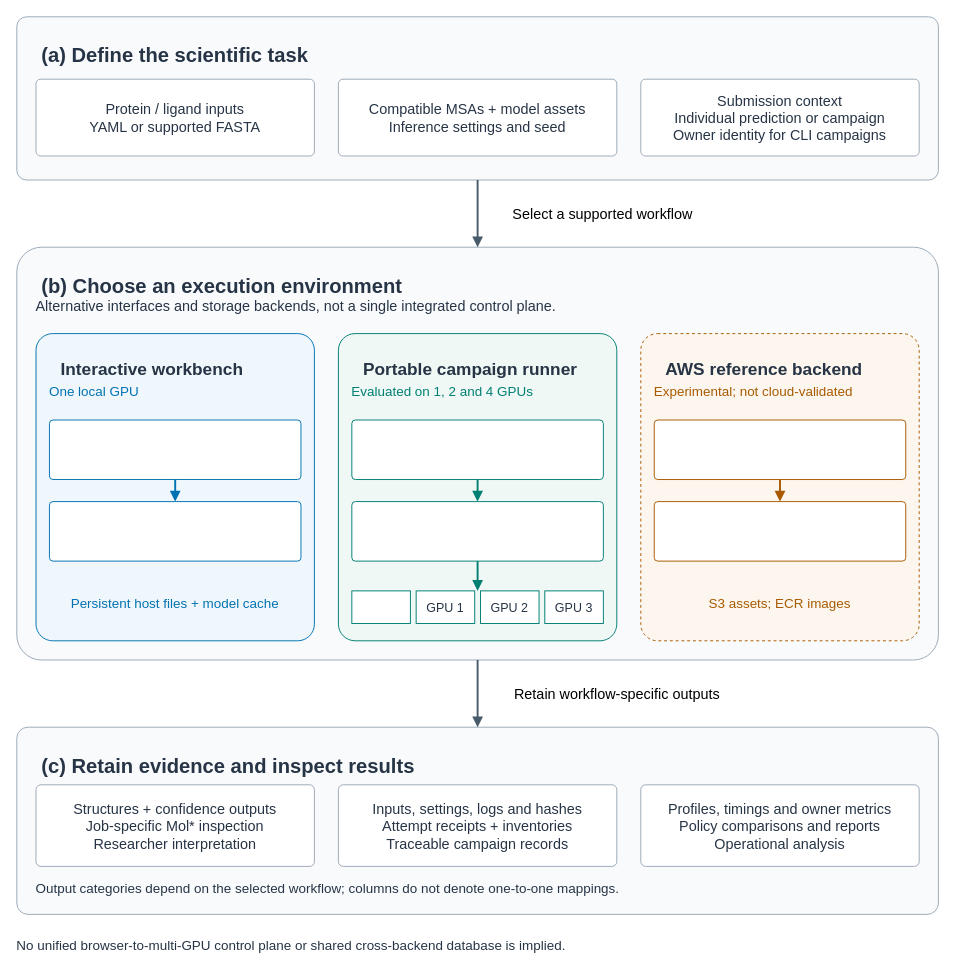
The diagram is 955 pixels wide and 977 high, and some of its shapes have lost their labels. The shapes that lost their labels are listed below. From the top down, each one's centre as x and y in pixels, then its label:
[174,449]: Browser + FastAPI Upload, status, logs
[477,449]: CLI + durable SQLite queue Inputs, jobs and attempts
[779,449]: API / SQS / Step Functions DynamoDB job metadata
[174,531]: GPU lock + Boltz process One prediction at a time
[477,531]: Runtime / memory estimates Policy selection + GPU leases
[779,531]: Batch CPU and GPU containers EC2 Spot / On-Demand
[380,607]: GPU 0
